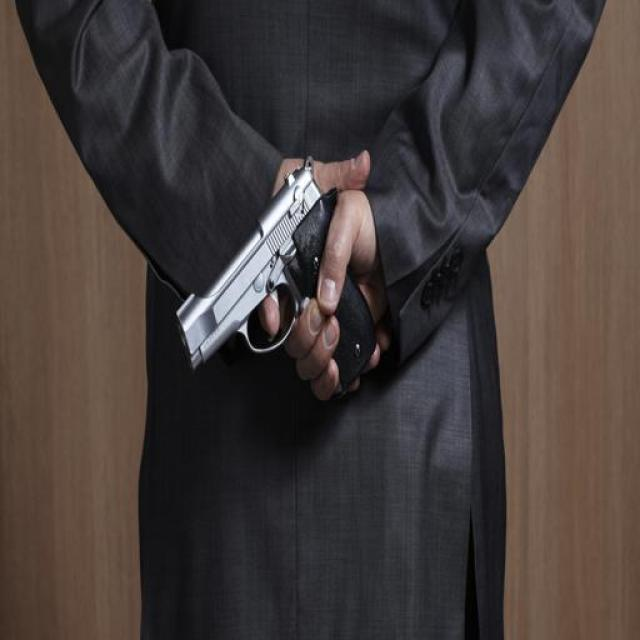pistol: (169, 171, 389, 400)
